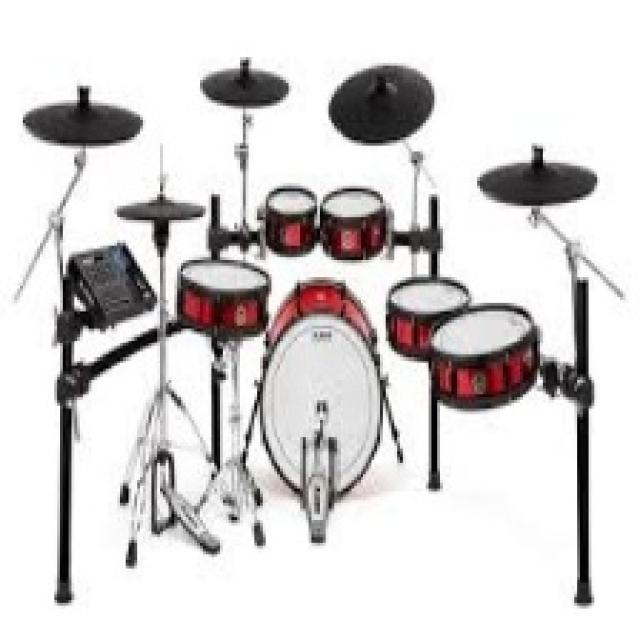drums: (18, 46, 618, 584)
